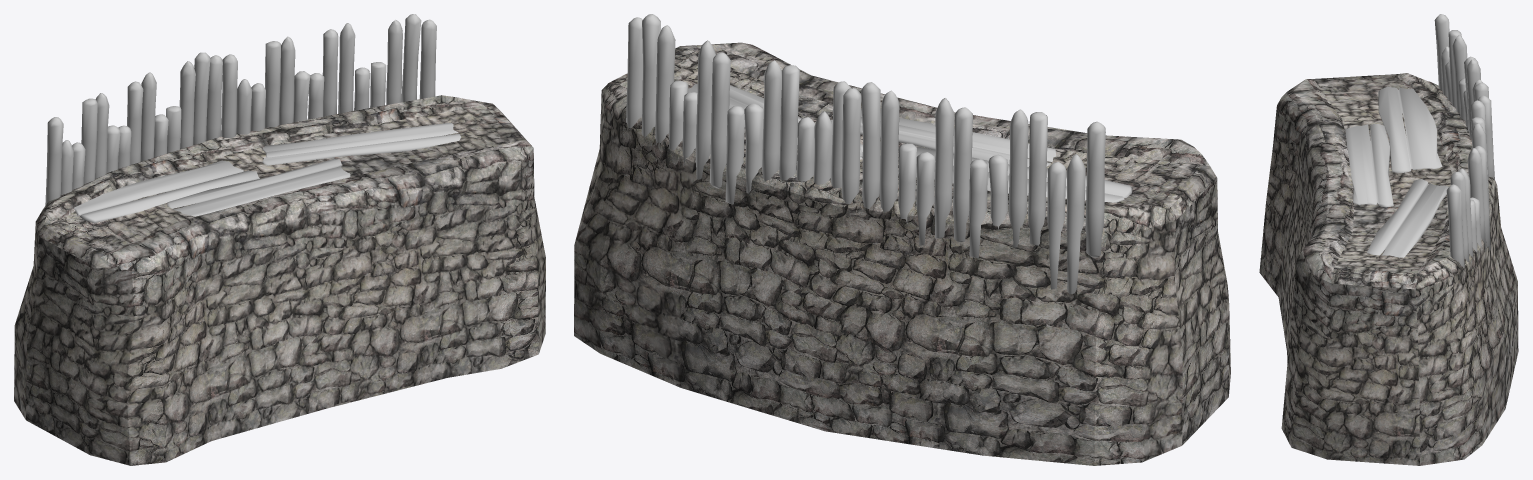
The model's file is StoneWall_2.fbx.
3 renders of one model, left to right at view 1: azimuth 30°, elevation 25°; view 2: azimuth 150°, elevation 25°; view 3: azimuth 270°, elevation 25°, orthographic. The views are drawn at different scales.
Visible parts, largest first — view 1: Stone, Wood; view 2: Stone, Wood; view 3: Stone, Wood.
Part boxes in pixels (x1,y1,x2,y2): Stone: (14, 95, 545, 465); Wood: (45, 14, 461, 222); Stone: (574, 42, 1230, 465); Wood: (626, 14, 1132, 294); Stone: (1259, 73, 1518, 465); Wood: (1345, 14, 1494, 267).
Bounding box in the file's own units: 1473 × 809 × 729.
